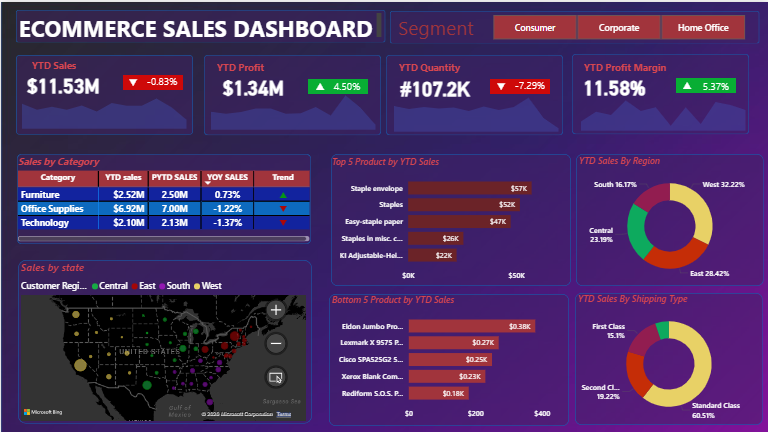

What the dashboard file says about the page in this screenshot:
{"tool":"powerbi","page":{"name":"Page 1","canvas":[1280,720],"ordinal":0},"visuals":[{"type":"shape","box":[24.3,12.9,615.7,54.3],"z":0},{"type":"textbox","box":[24.3,12.9,614.3,54.3],"z":1000},{"type":"shape","box":[24.5,88.1,295,133],"z":2000},{"type":"card","fields":{"Values":["calendar.YTD sales"]},"box":[31.8,114.6,144,44.1],"z":3000},{"type":"areaChart","fields":{"Category":["calendar.Month"],"Y":["Sum(ecommerce_data.sales_per_order)"]},"box":[20,138.1,304.2,77.9],"z":4000},{"type":"shape","box":[203.7,121.9,99.9,25],"z":5000},{"type":"card","fields":{"Values":["calendar.YOY SALES"]},"box":[225.7,115.7,87.1,35.7],"z":6000},{"type":"card","fields":{"Values":["calendar.Sales Icon"]},"box":[199.3,121.9,41.1,25],"z":7000},{"type":"textbox","box":[46.5,89.6,83.8,32.3],"z":8000},{"type":"shape","box":[338.9,88.1,295.3,133.7],"z":9000},{"type":"card","fields":{"Values":["calendar.YTD_Profit"]},"box":[347.7,119,144,44.1],"z":10000},{"type":"areaChart","fields":{"Category":["calendar.Month"],"Y":["Sum(ecommerce_data.profit_per_order)"]},"box":[334.5,139.5,304.2,77.9],"z":11000},{"type":"shape","box":[512.3,127.8,99.9,25],"z":12000},{"type":"card","fields":{"Values":["calendar.YOY PROFIT"]},"box":[532.9,124.8,86.7,35.3],"z":13000},{"type":"card","fields":{"Values":["calendar.Profit Icon"]},"box":[512.3,127.8,41.1,25],"z":14000},{"type":"textbox","box":[355.1,92.5,108.7,32.3],"z":15000},{"type":"shape","box":[642.1,88.7,295.3,133.7],"z":16000},{"type":"card","fields":{"Values":["calendar.YTD concatenated qty"]},"box":[650.9,119.5,144,44.1],"z":17000},{"type":"shape","box":[815.5,128.4,99.9,25],"z":18000},{"type":"card","fields":{"Values":["calendar.YOY Qty"]},"box":[839,123.4,86.7,35.3],"z":19000},{"type":"card","fields":{"Values":["calendar.Qty Icon"]},"box":[814,127.8,41.1,25],"z":20000},{"type":"textbox","box":[658.2,93.6,119,32.3],"z":21000},{"type":"areaChart","fields":{"Category":["calendar.Month"],"Y":["Sum(ecommerce_data.order_quantity)"]},"box":[639.2,142.5,304.2,77.9],"z":22000},{"type":"shape","box":[951,87.3,295.3,133.7],"z":23000},{"type":"card","fields":{"Values":["calendar.YTD Profit Margin"]},"box":[950.7,117.6,144,44.1],"z":24000},{"type":"shape","box":[1124.4,127,99.9,25],"z":25000},{"type":"card","fields":{"Values":["calendar.YOY profit margin"]},"box":[1147.9,124.6,86.7,35.3],"z":26000},{"type":"card","fields":{"Values":["calendar.profit margin Icon"]},"box":[1124.1,126.4,41.1,25],"z":27000},{"type":"textbox","box":[966.9,92.6,163.1,32.3],"z":28000},{"type":"areaChart","fields":{"Category":["calendar.Month"],"Y":["calendar.Profit Margin"]},"box":[951,142.2,304.2,77.9],"z":29000},{"type":"shape","box":[26.4,252.7,490,150],"z":30000},{"type":"pivotTable","title":"Sales by Category","fields":{"Rows":["ecommerce_data.category_name"],"Values":["calendar.YTD sales","calendar.PYTD SALES","calendar.YOY SALES","calendar.Sales Icon"]},"box":[22.9,254.3,495.7,148.6],"z":31000},{"type":"shape","box":[28.6,430,490,272.9],"z":32000},{"type":"shape","box":[550,252.9,400,220],"z":33000},{"type":"shape","box":[547.1,487.1,400,220],"z":34000},{"type":"barChart","title":"Top 5 Product by YTD Sales","fields":{"Category":["ecommerce_data.product_name"],"Y":["calendar.YTD sales"]},"box":[547.1,254.3,400,218.6],"z":35000},{"type":"barChart","title":"Bottom 5 Product by YTD Sales","fields":{"Category":["ecommerce_data.product_name"],"Y":["calendar.YTD sales"]},"box":[547.1,485.7,401.4,218.6],"z":36000},{"type":"shape","box":[958.6,252.9,312.9,220],"z":37000},{"type":"shape","box":[957.1,485.7,312.9,220],"z":38000},{"type":"donutChart","title":"YTD Sales By Region","fields":{"Category":["ecommerce_data.customer_region"],"Y":["calendar.YTD sales"]},"box":[958.6,252.9,312.9,220],"z":39000},{"type":"donutChart","title":"YTD Sales By Shipping Type","fields":{"Y":["calendar.YTD sales"],"Category":["ecommerce_data.shipping_type"]},"box":[957.1,482.9,312.9,220],"z":40000},{"type":"shape","box":[648.6,14.3,615.7,54.3],"z":41000},{"type":"slicer","fields":{"Values":["ecommerce_data.customer_segment"]},"box":[795.7,14.3,468.6,54.3],"z":42000},{"type":"textbox","box":[648.6,14.3,161.4,52.9],"z":43000},{"type":"map","title":"Sales by state","fields":{"Y":["us_state_long_lat_codes.latitude"],"X":["us_state_long_lat_codes.longitude"],"Series":["ecommerce_data.customer_region"],"Size":["calendar.YTD sales"]},"box":[27.9,430.5,484.9,273.3],"z":44000}]}

Visuals, with their boxes in screenshot pixels (x1, y1, x2, y2), scaled from the page's 1280x720 canvas onto the 768x432 screenshot:
shape: 15/8/384/40
textbox: 15/8/383/40
shape: 15/53/192/133
card - calendar.YTD sales: 19/69/105/95
areaChart - calendar.Month x Sum(ecommerce_data.sales_per_order): 12/83/195/130
shape: 122/73/182/88
card - calendar.YOY SALES: 135/69/188/91
card - calendar.Sales Icon: 120/73/144/88
textbox: 28/54/78/73
shape: 203/53/381/133
card - calendar.YTD_Profit: 209/71/295/98
areaChart - calendar.Month x Sum(ecommerce_data.profit_per_order): 201/84/383/130
shape: 307/77/367/92
card - calendar.YOY PROFIT: 320/75/372/96
card - calendar.Profit Icon: 307/77/332/92
textbox: 213/56/278/75
shape: 385/53/562/133
card - calendar.YTD concatenated qty: 391/72/477/98
shape: 489/77/549/92
card - calendar.YOY Qty: 503/74/555/95
card - calendar.Qty Icon: 488/77/513/92
textbox: 395/56/466/76
areaChart - calendar.Month x Sum(ecommerce_data.order_quantity): 384/86/566/132
shape: 571/52/748/133
card - calendar.YTD Profit Margin: 570/71/657/97
shape: 675/76/735/91
card - calendar.YOY profit margin: 689/75/741/96
card - calendar.profit margin Icon: 674/76/699/91
textbox: 580/56/678/75
areaChart - calendar.Month x calendar.Profit Margin: 571/85/753/132
shape: 16/152/310/242
"Sales by Category" pivotTable: 14/153/311/242
shape: 17/258/311/422
shape: 330/152/570/284
shape: 328/292/568/424
"Top 5 Product by YTD Sales" barChart: 328/153/568/284
"Bottom 5 Product by YTD Sales" barChart: 328/291/569/423
shape: 575/152/763/284
shape: 574/291/762/423
"YTD Sales By Region" donutChart: 575/152/763/284
"YTD Sales By Shipping Type" donutChart: 574/290/762/422
shape: 389/9/759/41
slicer - ecommerce_data.customer_segment: 477/9/759/41
textbox: 389/9/486/40
"Sales by state" map: 17/258/308/422
